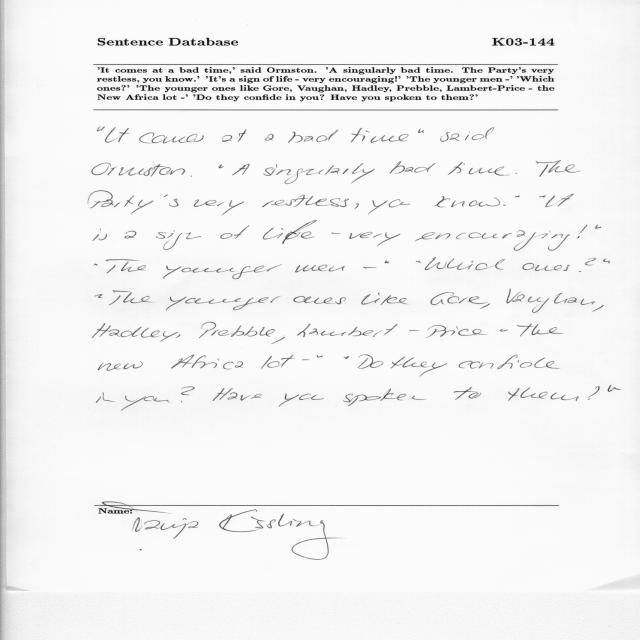word: (415, 230, 570, 251), (297, 324, 487, 338), (264, 163, 375, 184), (121, 386, 195, 411), (163, 264, 282, 279), (167, 296, 281, 311), (512, 293, 595, 313), (93, 323, 178, 342), (89, 191, 154, 215), (343, 389, 427, 406), (459, 355, 560, 369), (263, 220, 317, 244), (199, 322, 275, 338), (92, 163, 185, 176), (391, 357, 448, 376), (262, 195, 349, 207), (425, 258, 505, 271), (431, 292, 491, 309), (171, 355, 243, 369), (508, 388, 579, 402), (156, 230, 201, 250), (351, 128, 409, 143), (448, 162, 510, 176), (440, 127, 494, 142), (194, 200, 244, 216), (536, 160, 581, 177), (349, 232, 400, 247), (139, 133, 204, 144), (435, 196, 500, 207), (109, 291, 153, 306), (288, 130, 338, 143), (368, 200, 411, 215), (279, 393, 324, 407), (390, 161, 436, 174), (517, 324, 563, 337), (106, 259, 146, 273), (361, 293, 407, 305), (261, 355, 295, 369), (98, 361, 143, 371), (293, 296, 346, 304), (220, 225, 250, 239), (105, 127, 130, 143), (295, 265, 345, 273), (522, 263, 570, 271), (358, 355, 384, 369), (454, 387, 481, 400), (222, 129, 247, 142), (228, 392, 262, 401), (213, 388, 233, 401), (579, 258, 596, 272), (506, 289, 521, 304), (558, 194, 574, 207), (232, 164, 250, 175), (97, 392, 115, 403), (164, 194, 179, 207), (503, 195, 520, 206), (93, 229, 107, 241), (588, 386, 600, 400), (577, 225, 587, 239), (546, 196, 556, 207), (271, 337, 285, 344), (125, 231, 137, 239), (608, 385, 621, 392), (592, 305, 604, 312), (265, 134, 274, 141), (603, 259, 610, 264), (97, 127, 105, 131), (96, 294, 103, 298), (418, 130, 424, 134), (355, 203, 359, 209), (595, 225, 601, 229), (500, 329, 508, 332), (219, 165, 224, 169), (176, 335, 181, 339), (332, 232, 341, 234), (317, 355, 323, 358), (344, 356, 349, 359), (539, 196, 546, 198), (363, 267, 377, 268), (385, 260, 389, 263), (416, 261, 421, 263), (302, 360, 310, 361), (95, 264, 98, 266), (191, 176, 192, 177), (516, 173, 517, 174), (420, 129, 421, 129)
